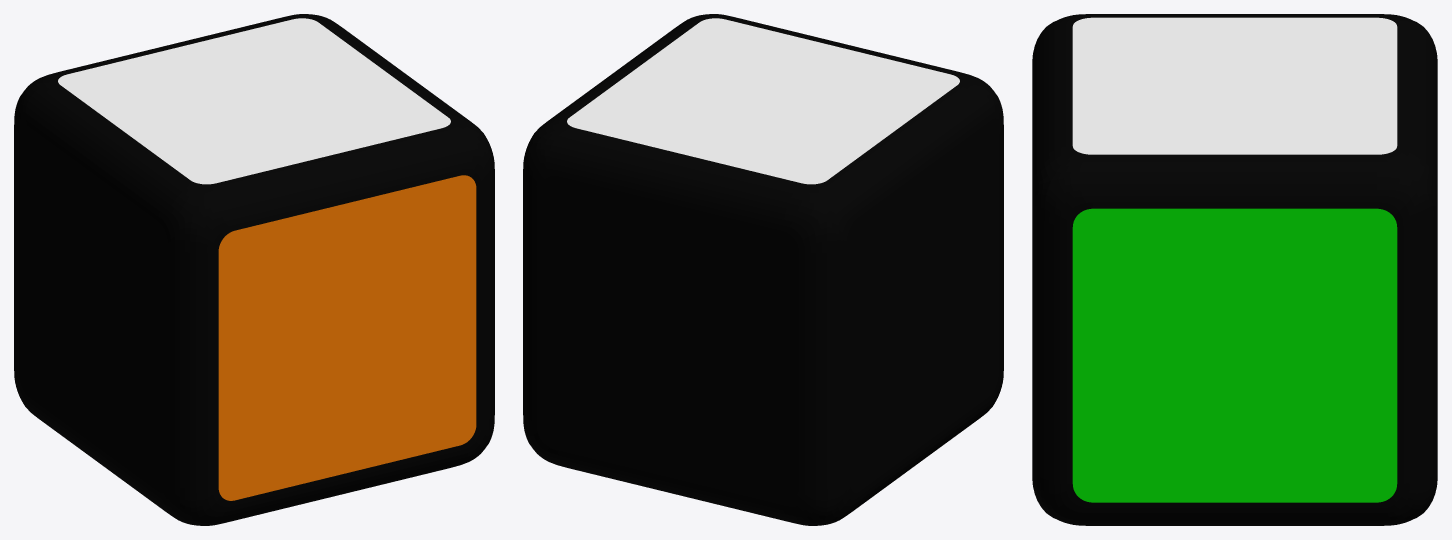
File: gow.fbx
3 views of the same model, side by side, from view 1: azimuth 30°, elevation 25°; view 2: azimuth 150°, elevation 25°; view 3: azimuth 270°, elevation 25° (orthographic). The views are drawn at different scales.
Visible parts, largest first — view 1: gow; view 2: gow; view 3: gow.
Part boxes in pixels (x1,y1,x2,y2): gow: (14,14,494,525); gow: (523,14,1003,525); gow: (1032,14,1437,525).
Bounding box in the file's own units: 100 × 100 × 100.
